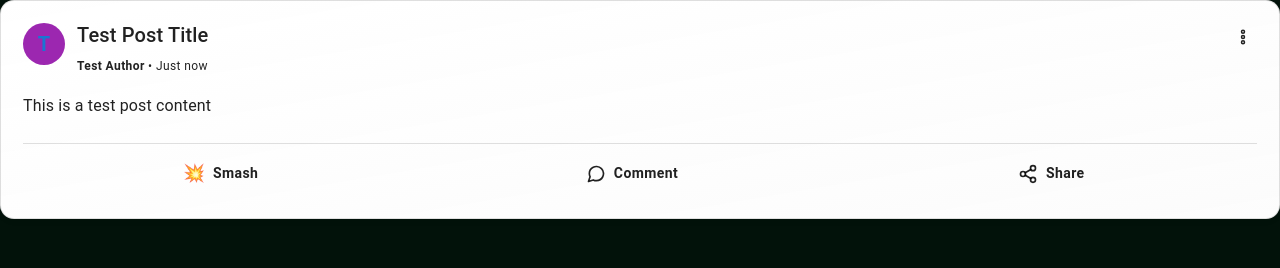
Scenario: PostCard Component QA Tests › optimistically adds reaction when clicking Smash reaction button
This screenshot has width=1280, height=268.
Click the button with aria-label "React to post".
click(221, 174)  # box [23,152,418,196]
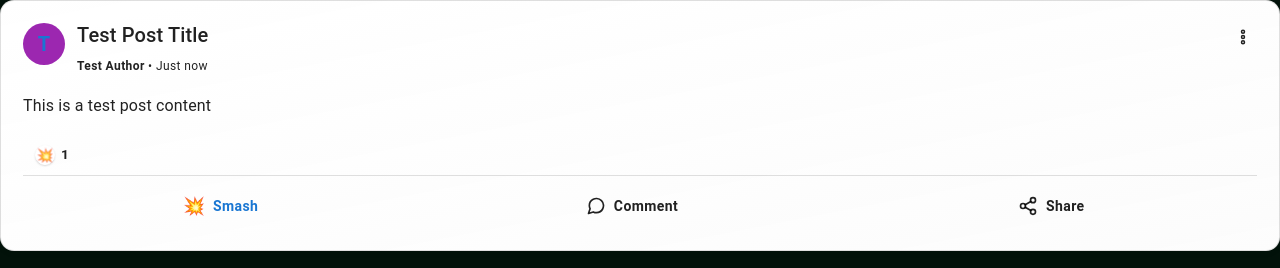
Expected: the 1st text "💥" is shown, [35,145,55,165]
Expected: the text "1" is shown, [61,148,69,162]
